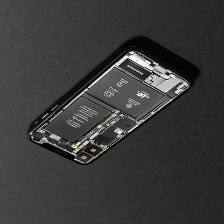phone: (24, 36, 199, 168)
